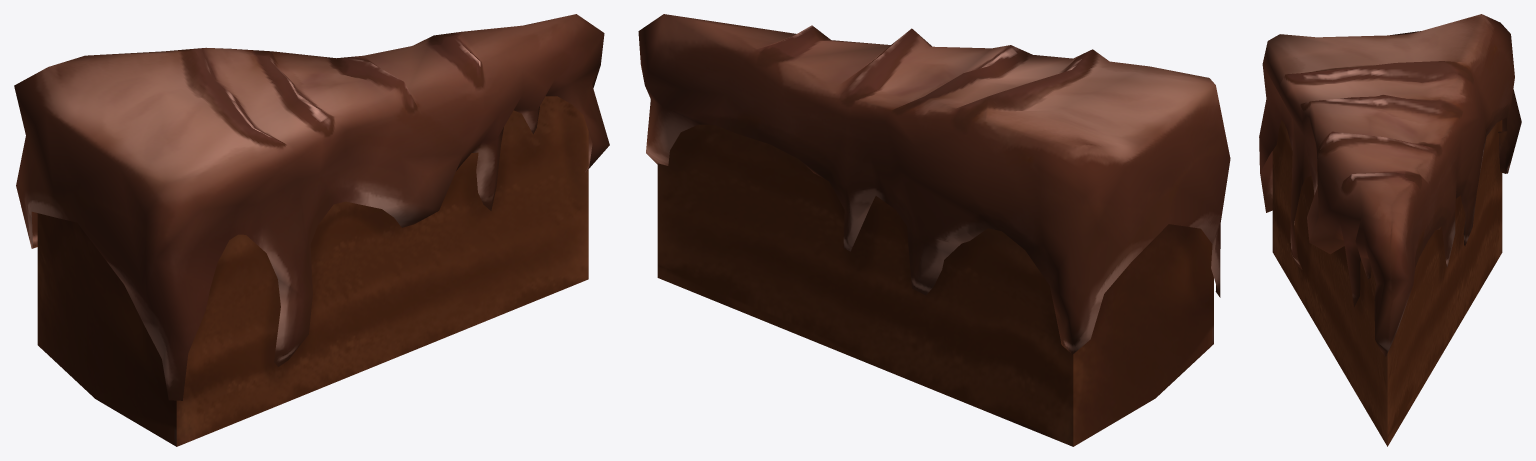
The model's file is cakechocolate.fbx.
3 views of the same model, side by side, from view 1: azimuth 30°, elevation 25°; view 2: azimuth 150°, elevation 25°; view 3: azimuth 270°, elevation 25° (orthographic). The views are drawn at different scales.
Visible parts, largest first — view 1: Cylinder.005, cakechocolate; view 2: Cylinder.005, cakechocolate; view 3: Cylinder.005, cakechocolate.
Boxes of the visible parts, box(x1,y1,x2,y2) form: Cylinder.005: box(14, 14, 609, 400); cakechocolate: box(37, 96, 588, 446); Cylinder.005: box(638, 14, 1230, 354); cakechocolate: box(657, 124, 1213, 446); Cylinder.005: box(1259, 14, 1521, 356); cakechocolate: box(1272, 120, 1502, 446).
Bounding box in the file's own units: 30.19 × 16 × 15.81.
